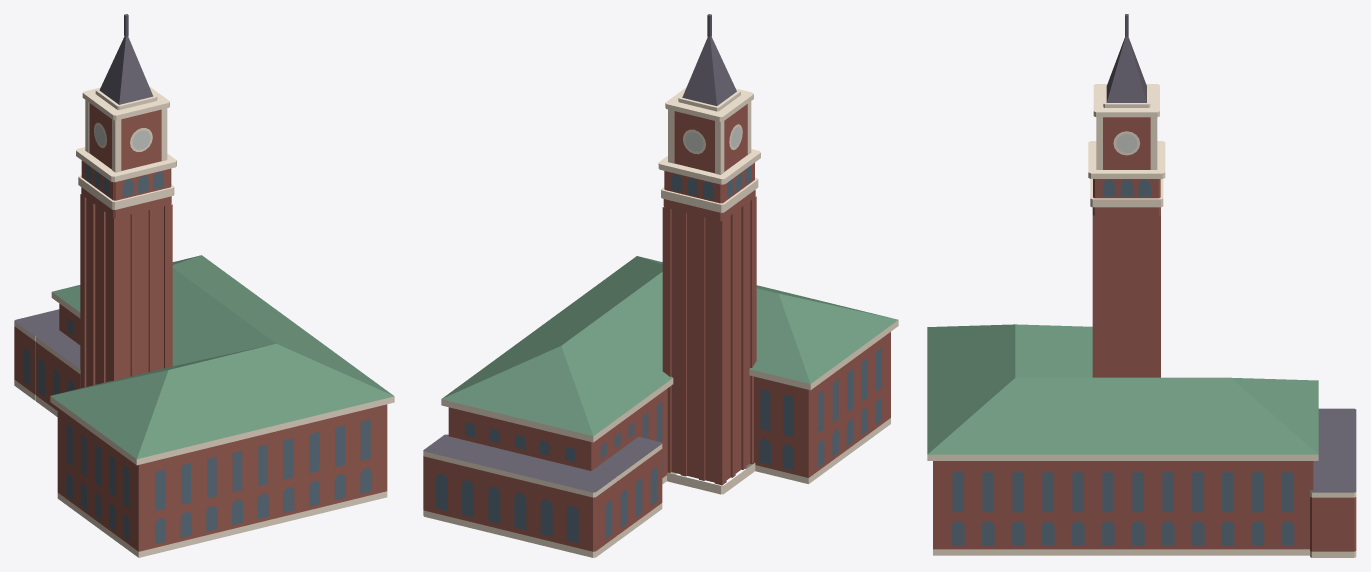
3 views of the same model, side by side, from view 1: azimuth 30°, elevation 25°; view 2: azimuth 150°, elevation 25°; view 3: azimuth 270°, elevation 25° (orthographic).
Visible parts, largest first — view 1: king-street-station; view 2: king-street-station; view 3: king-street-station.
Part boxes in pixels (bbox=[...]): king-street-station: bbox=[14, 14, 394, 557]; king-street-station: bbox=[423, 14, 898, 557]; king-street-station: bbox=[927, 14, 1356, 557].
Bounding box in the file's own units: 44 × 73.8 × 62.52.
